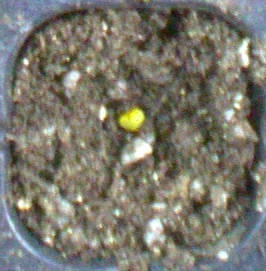pepper seed: (43, 41, 191, 173)
